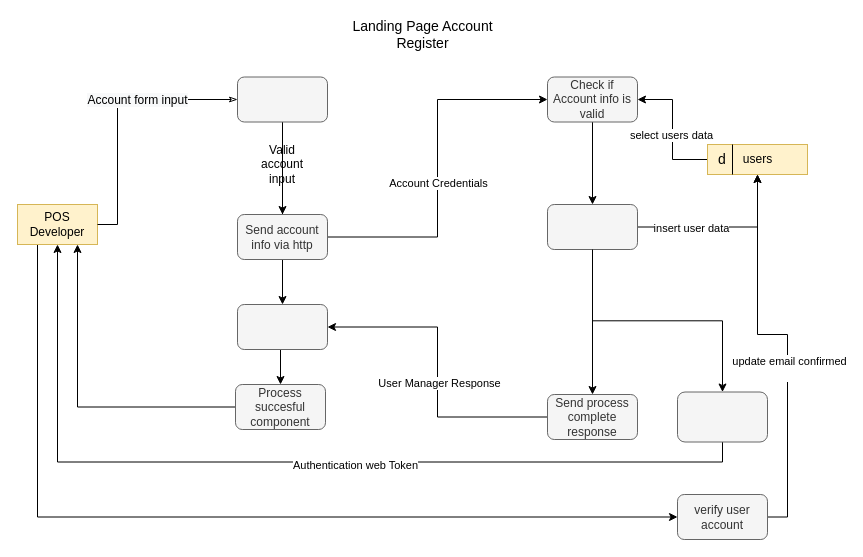
Some shapes in this 863 by 557 pixel diagram are drawn without their labels. The shapes that lost their labels are listed below. From the top down, each one's centre as x and y in pixels, then its label:
At (282,99): "Input validation".
At (592,227): "make a new user record".
At (282,327): "wait for response".
At (722,416): "Send confirmation mail".
